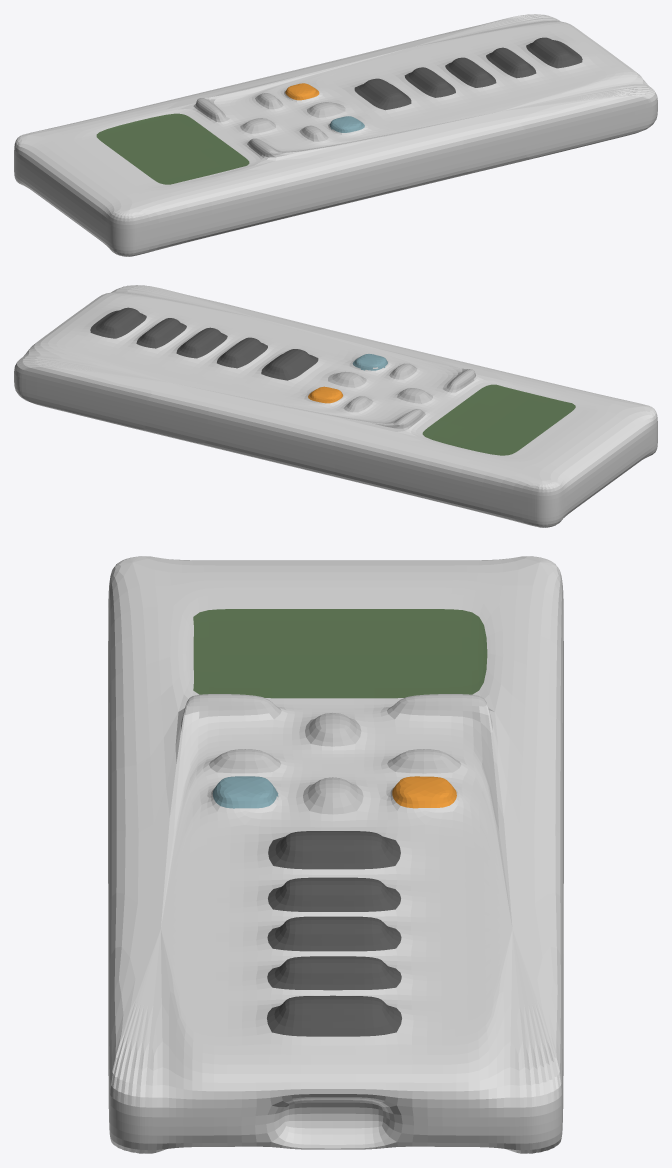
Rendered from IClicker.fbx.
The picture shows the model from 3 angles, top to bottom: view 1: azimuth 30°, elevation 25°; view 2: azimuth 150°, elevation 25°; view 3: azimuth 270°, elevation 25°; orthographic projection. The views are drawn at different scales.
Parts seen in each view (by area): view 1: Cube; view 2: Cube; view 3: Cube.
Part boxes in pixels (x1=…): Cube: x1=14, y1=14, x2=657, y2=256; Cube: x1=14, y1=285, x2=657, y2=527; Cube: x1=108, y1=556, x2=563, y2=1153.
Size of the model in its own units: 186 by 19.07 by 67.18.
